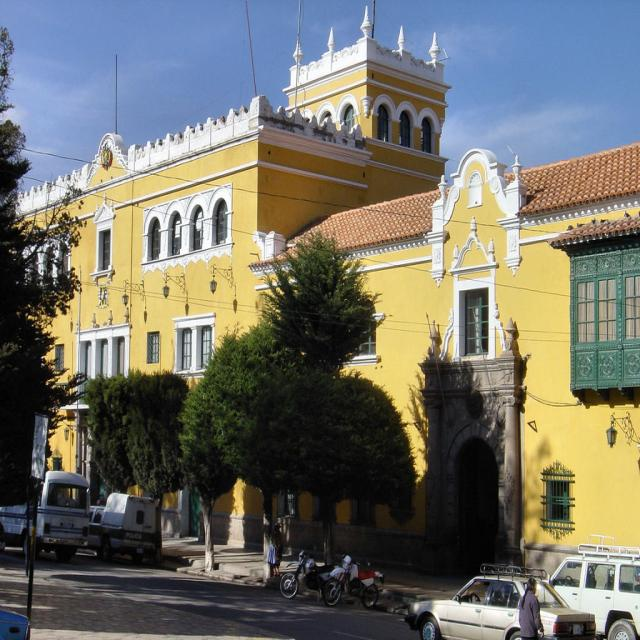car: (0, 604, 28, 634)
